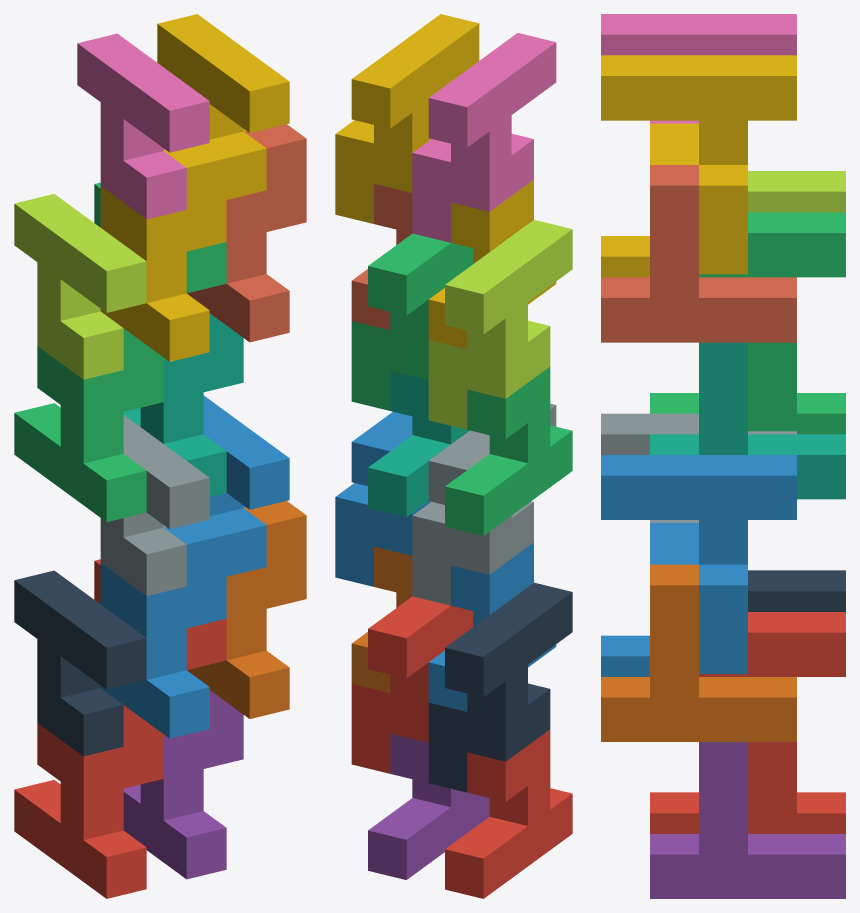
The model's file is tiling.obj.
3 renders of one model, left to right at view 1: azimuth 30°, elevation 25°; view 2: azimuth 150°, elevation 25°; view 3: azimuth 270°, elevation 25°, orthographic. The views are drawn at different scales.
Parts seen in each view (by area): view 1: copy_1_domain_3, copy_1_domain_1, copy_2_domain_4, copy_2_domain_3, copy_2_domain_1, copy_1_domain_2, copy_1_domain_4, copy_2_domain_8, copy_1_domain_6, copy_1_domain_8, copy_1_domain_5, copy_2_domain_2 (+4 smaller); view 2: copy_2_domain_4, copy_2_domain_1, copy_2_domain_3, copy_2_domain_8, copy_1_domain_3, copy_1_domain_1, copy_2_domain_5, copy_2_domain_7, copy_2_domain_2, copy_1_domain_5, copy_2_domain_6, copy_1_domain_7 (+4 smaller); view 3: copy_2_domain_8, copy_2_domain_6, copy_1_domain_8, copy_1_domain_6, copy_1_domain_5, copy_2_domain_7, copy_2_domain_5, copy_1_domain_7, copy_2_domain_4, copy_1_domain_1, copy_2_domain_1, copy_2_domain_3 (+4 smaller).
Part boxes in pixels (box(x1,y1,x2,y2)): copy_1_domain_3: box(14, 328, 163, 521); copy_1_domain_1: box(14, 705, 163, 898); copy_2_domain_4: box(77, 33, 209, 219); copy_2_domain_3: box(14, 194, 146, 379); copy_2_domain_1: box(14, 570, 146, 756); copy_1_domain_2: box(100, 520, 226, 738); copy_1_domain_4: box(100, 143, 226, 361); copy_2_domain_8: box(157, 14, 289, 199); copy_1_domain_6: box(187, 501, 306, 718); copy_1_domain_8: box(187, 124, 306, 342); copy_1_domain_5: box(123, 690, 243, 879); copy_2_domain_2: box(100, 415, 209, 595); copy_2_domain_4: box(412, 33, 556, 242); copy_2_domain_1: box(428, 582, 572, 792); copy_2_domain_3: box(428, 220, 572, 429); copy_2_domain_8: box(335, 14, 479, 223); copy_1_domain_3: box(445, 366, 572, 535); copy_1_domain_1: box(445, 729, 572, 898); copy_2_domain_5: box(351, 596, 473, 773); copy_2_domain_7: box(351, 233, 473, 410); copy_2_domain_2: box(412, 403, 556, 605); copy_1_domain_5: box(368, 733, 489, 879); copy_2_domain_6: box(335, 412, 430, 586); copy_1_domain_7: box(368, 371, 469, 517); copy_2_domain_8: box(601, 55, 796, 274); copy_2_domain_6: box(601, 455, 796, 673); copy_1_domain_8: box(601, 165, 796, 342); copy_1_domain_6: box(601, 564, 796, 741); copy_1_domain_5: box(650, 742, 845, 898); copy_2_domain_7: box(699, 212, 845, 431); copy_2_domain_5: box(699, 612, 845, 830); copy_1_domain_7: box(650, 342, 845, 499); copy_2_domain_4: box(601, 14, 796, 123); copy_1_domain_1: box(650, 792, 845, 833); copy_2_domain_1: box(748, 570, 845, 611); copy_2_domain_3: box(748, 171, 845, 212).
Size of the model in its own units: 5 by 19 by 5.
